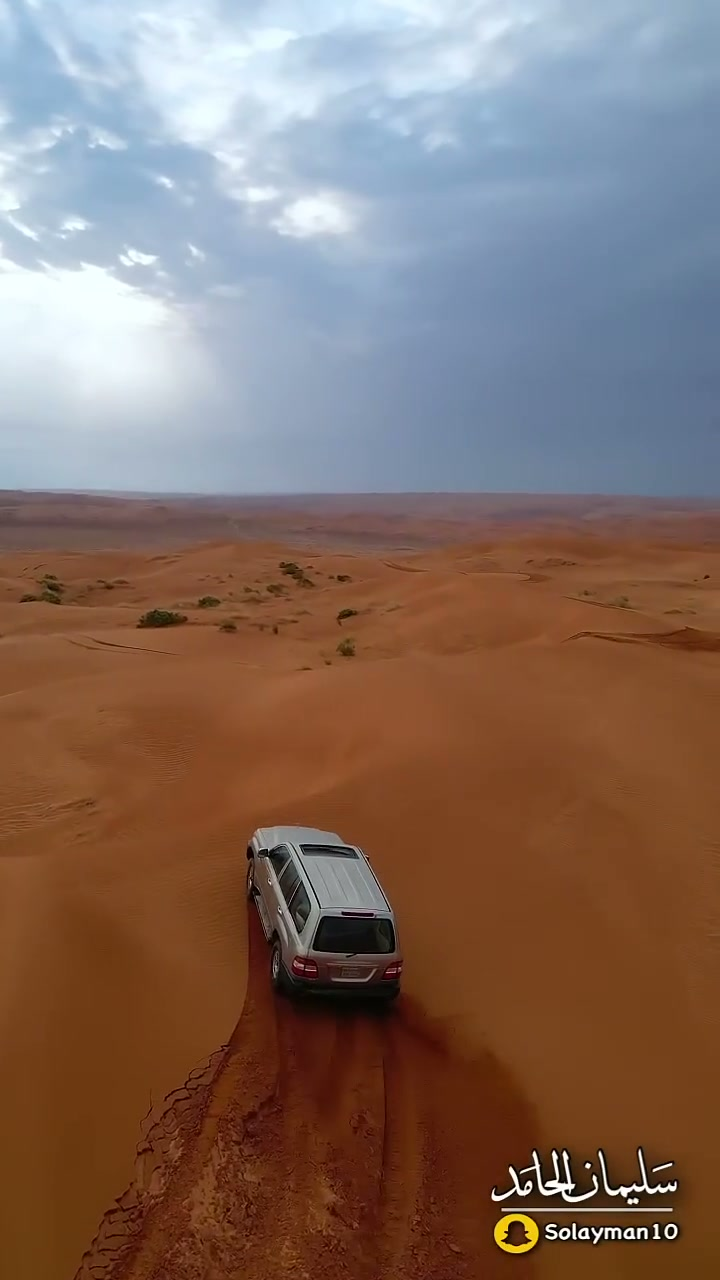vehicle_track: (76, 913, 532, 1279)
